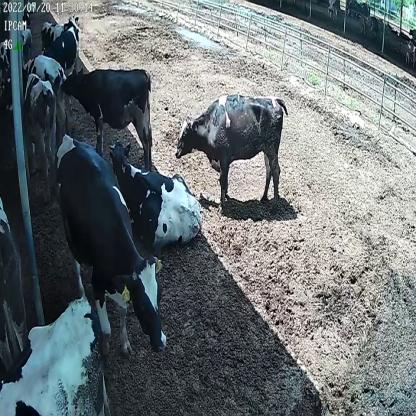cow: (53, 132, 168, 361), (173, 91, 290, 207), (106, 134, 204, 248), (58, 64, 154, 164), (37, 14, 83, 54)
